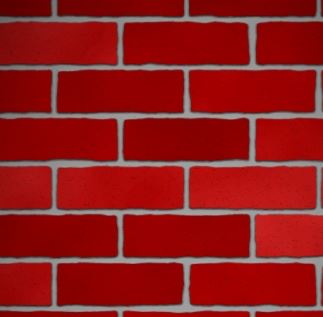brick: (122, 20, 252, 67), (189, 164, 317, 211), (55, 67, 185, 113), (56, 164, 186, 210), (122, 213, 252, 258), (188, 69, 319, 113), (54, 262, 183, 305), (123, 118, 249, 162), (188, 264, 319, 305), (1, 22, 118, 66), (1, 117, 117, 161), (1, 214, 119, 256), (253, 212, 323, 259), (254, 117, 323, 162), (255, 22, 323, 66), (1, 165, 53, 211), (58, 1, 188, 19), (1, 68, 52, 111), (1, 264, 53, 304), (190, 1, 305, 17), (1, 1, 53, 19)
